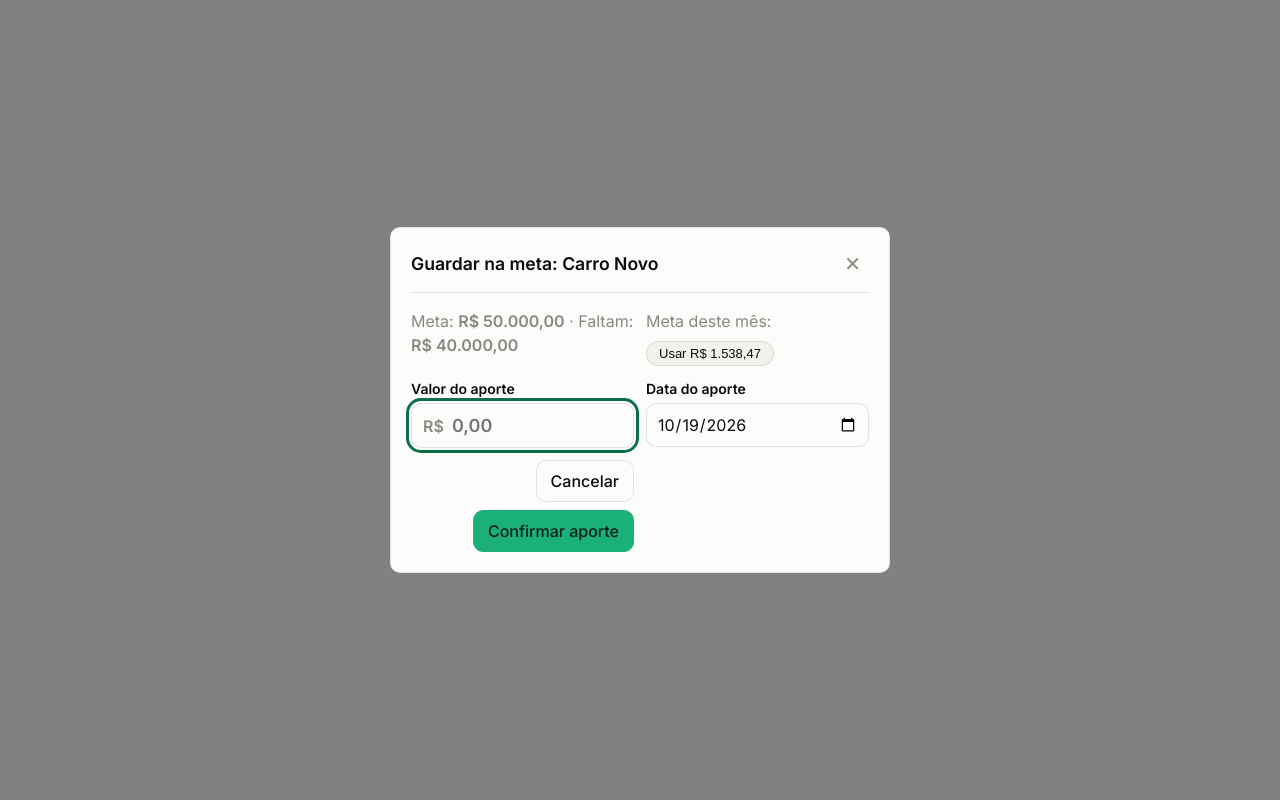
ContributeModal › shows error if API fails
Type "200" into the field labelled "Valor do aporte" at point(522, 426), box 411,403 -> 634,448
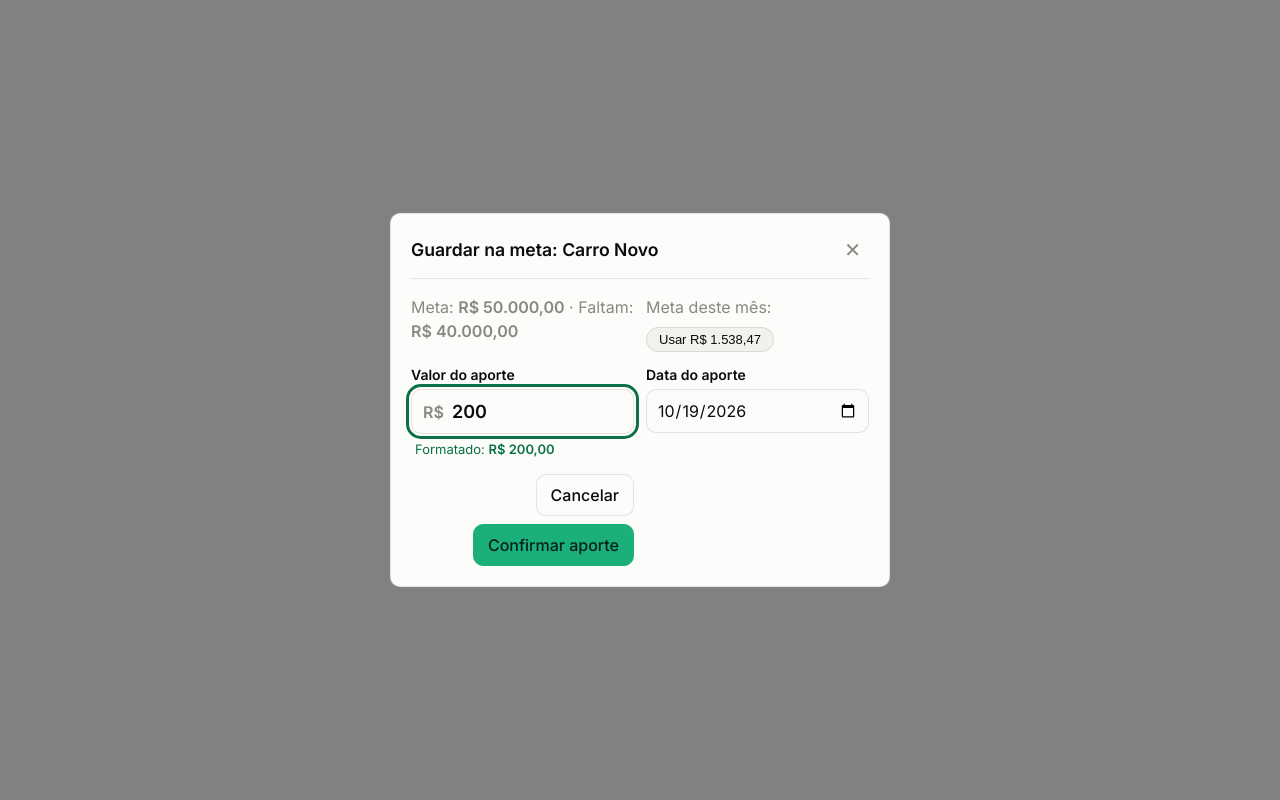
Click the button "Confirmar aporte" at point(553, 545), box 473,524 -> 634,566
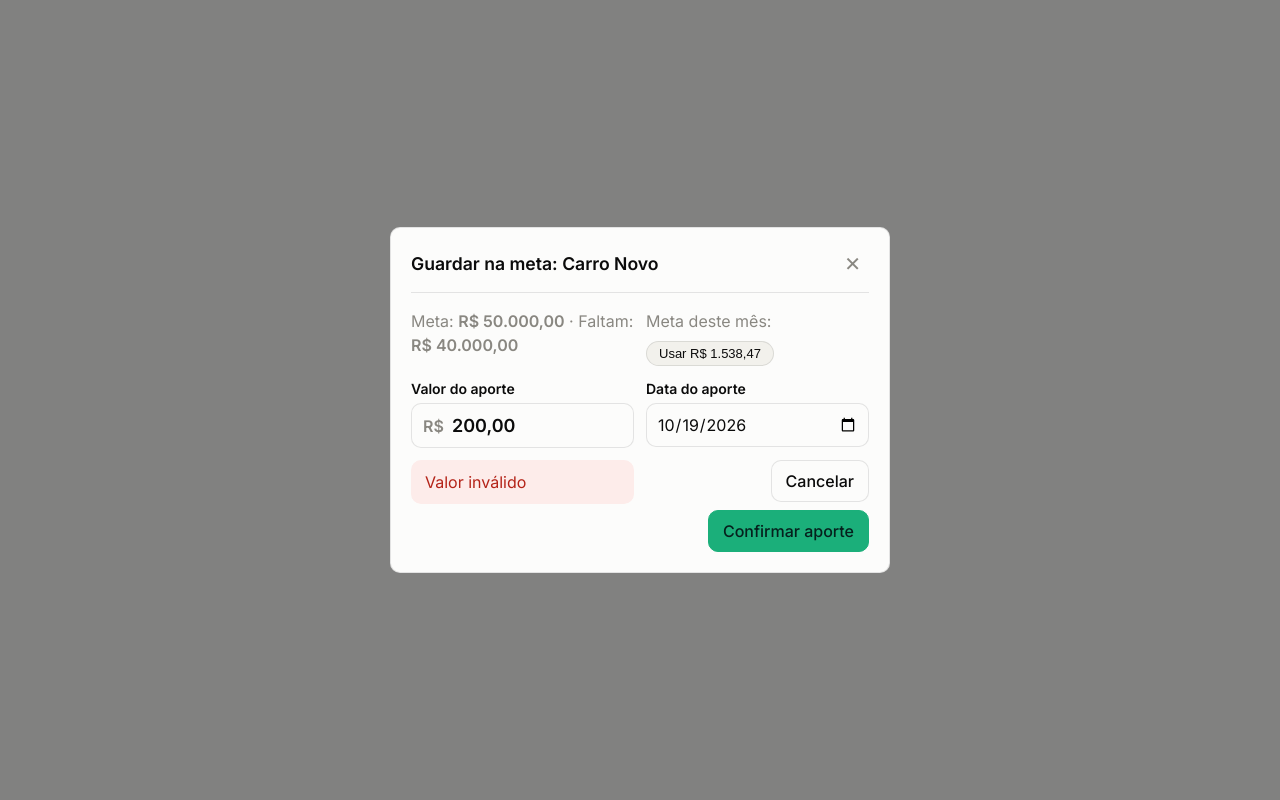
Now the text "Valor inválido" is shown, box 411,460 -> 634,504
